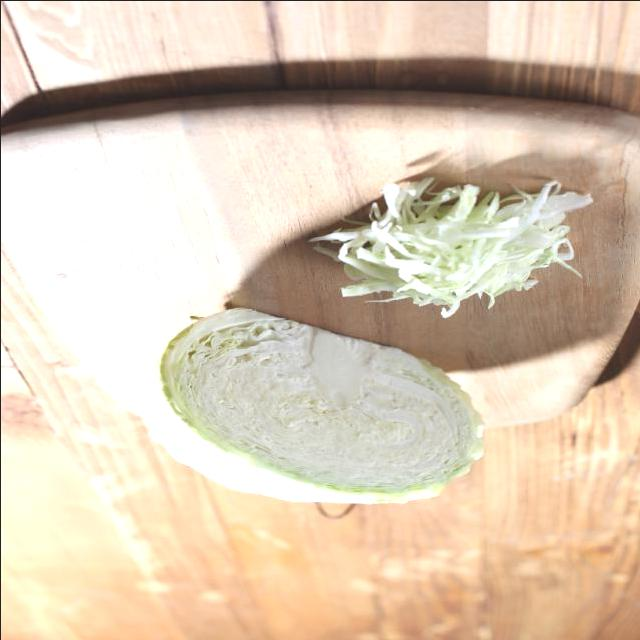cabbage: (139, 301, 487, 511)
